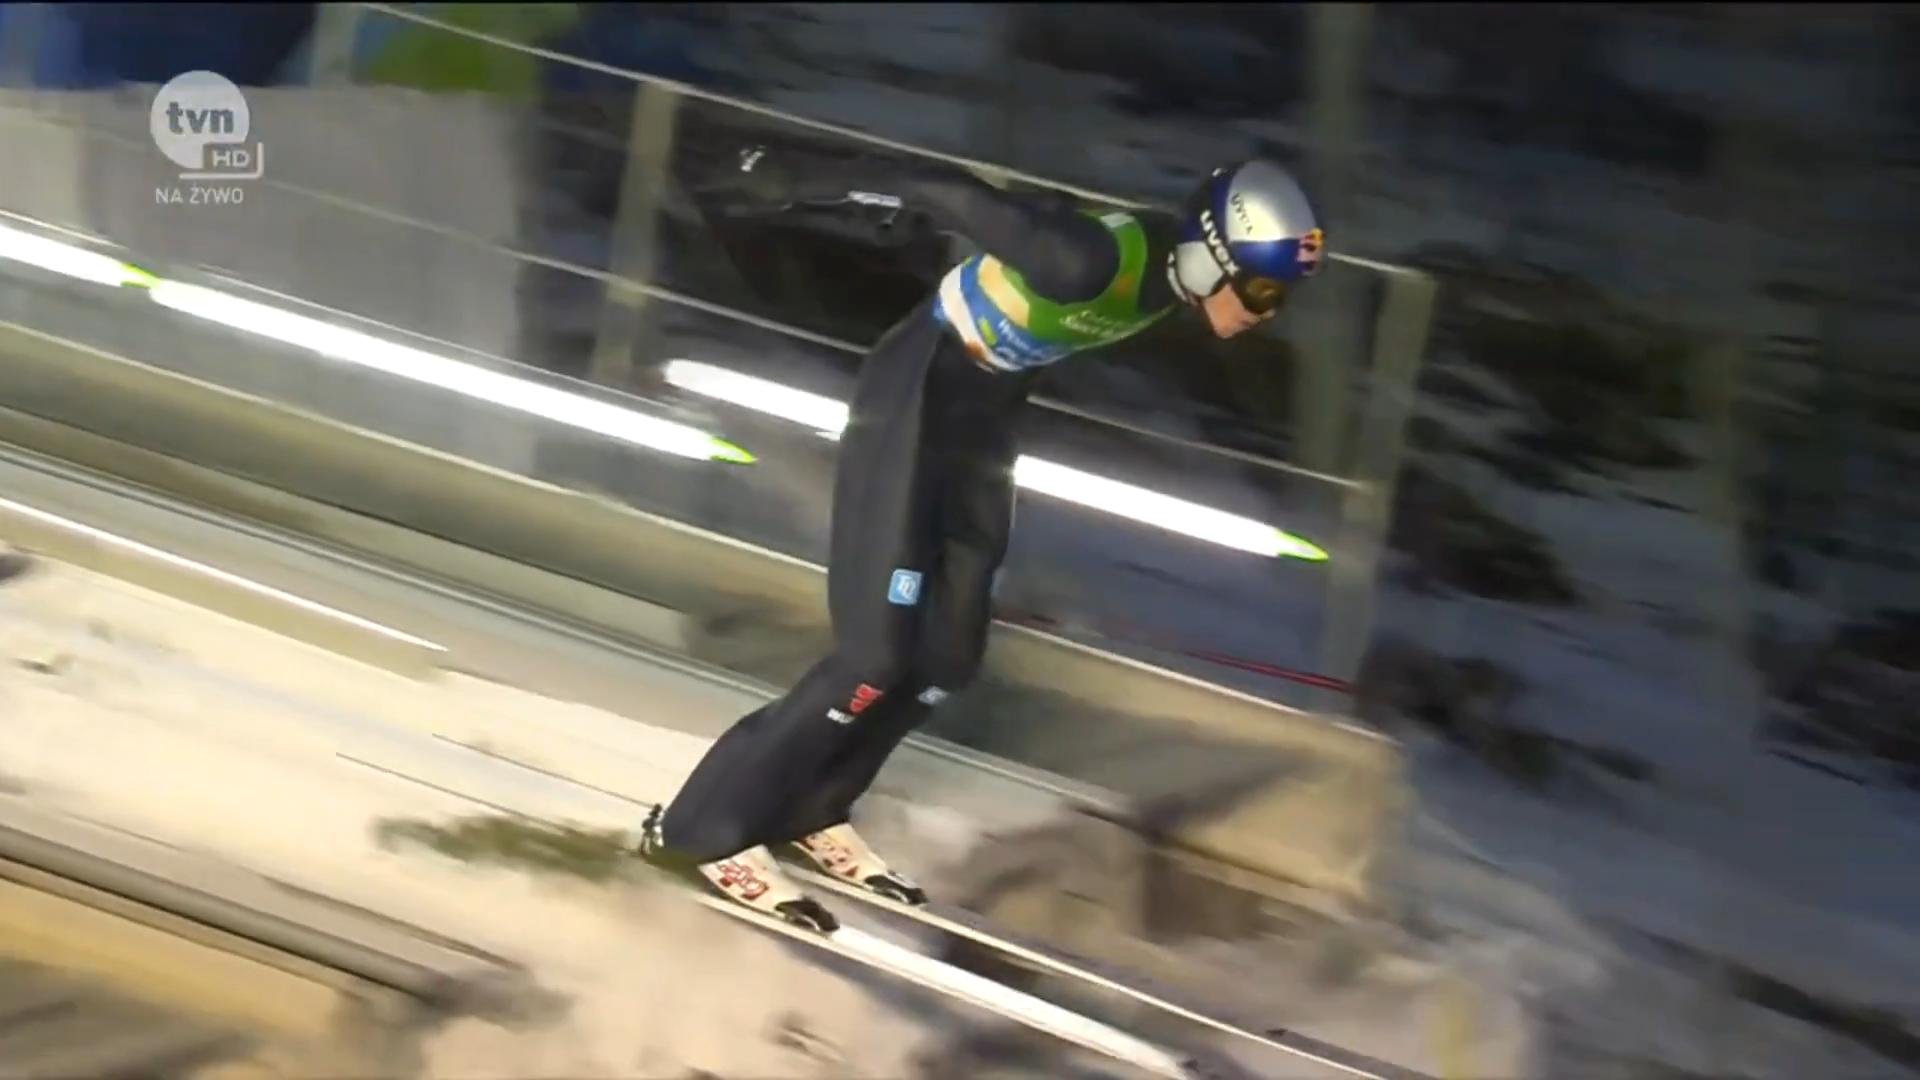prog: (988, 762, 1292, 865)
